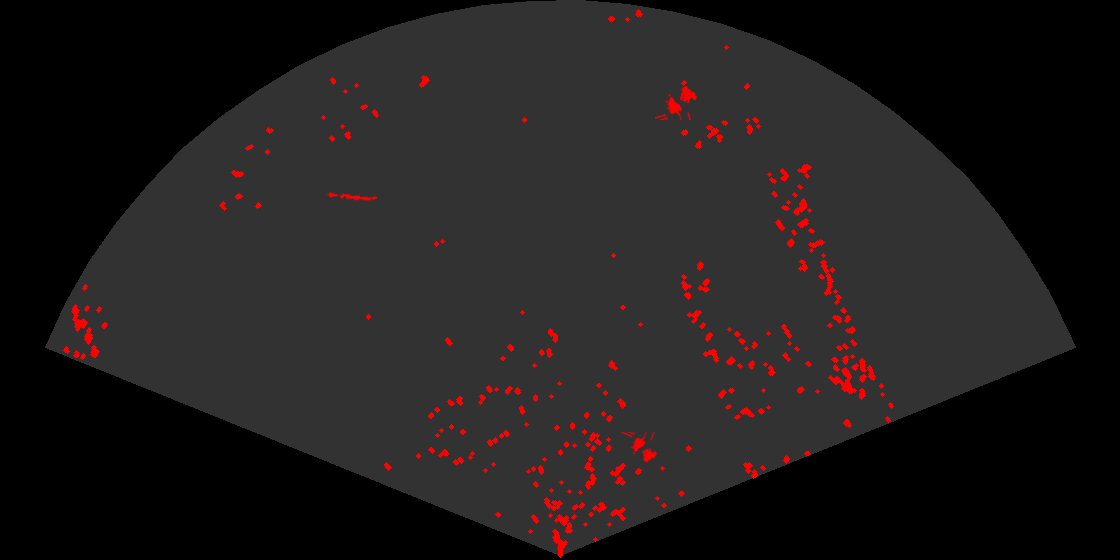cage: (655, 84, 699, 120), (621, 432, 659, 464)
chain: (326, 191, 377, 202)
